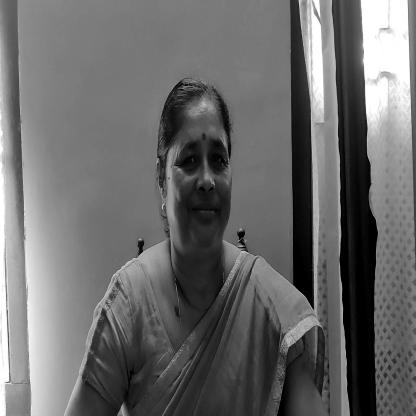Normal: (155, 84, 237, 252)
